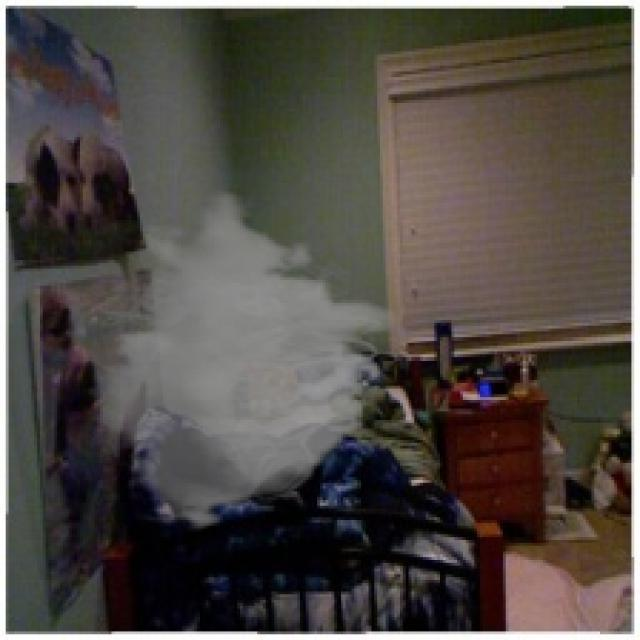smoke: (60, 188, 411, 532)
